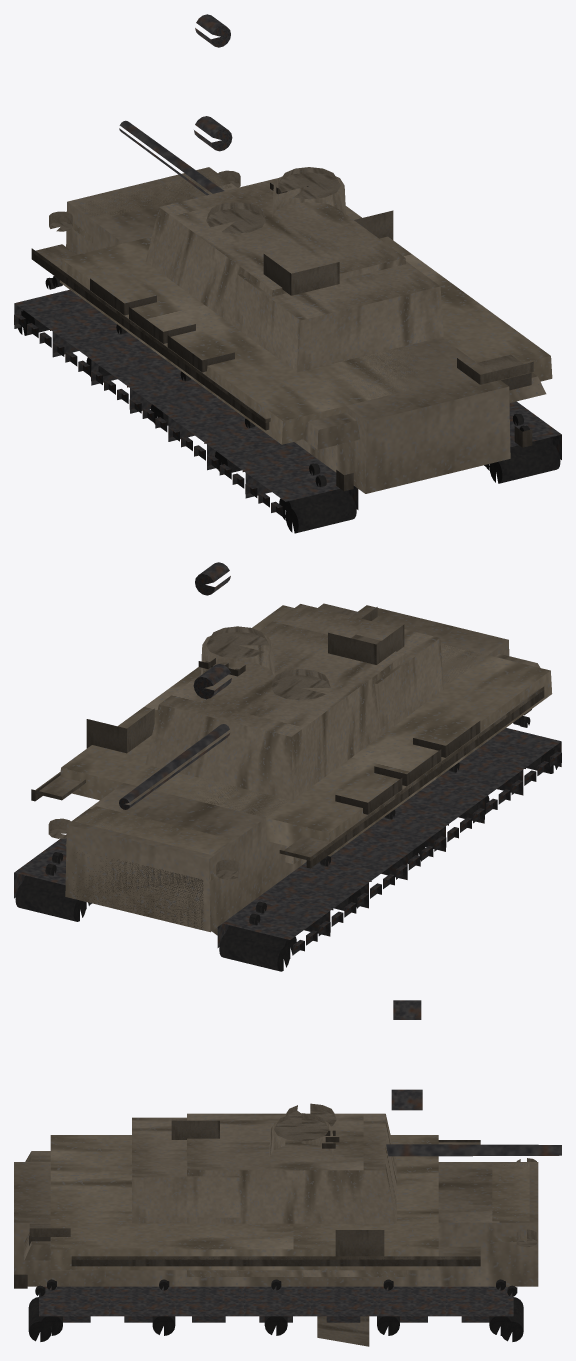
The model's file is ct-light.glb.
3 views of the same model, one above another, from view 1: azimuth 30°, elevation 25°; view 2: azimuth 150°, elevation 25°; view 3: azimuth 270°, elevation 25° (orthographic). The views are drawn at different scales.
Parts seen in each view (by area): view 1: Hull, Turret, TrackR0, TrackR1, Gun, TrackR4, TrackR5, TrackR2, TrackR6, TrackR3, IdlerR, IdlerL (+2 smaller); view 2: Hull, Turret, TrackR6, TrackR5, Gun, TrackR3, TrackR0, TrackR2, TrackR1, TrackR4, SprocketR, SprocketL (+3 smaller); view 3: Hull, Turret, Gun, TrackL4, TrackL2, TrackL1, TrackL5, TrackL0, TrackL6, TrackL3, IdlerL, SprocketL (+5 smaller).
Part boxes in pixels (x1,y1,x2,y2): Hull: [31, 167, 552, 493]; Turret: [145, 167, 443, 372]; TrackR0: [245, 456, 358, 516]; TrackR1: [207, 431, 313, 488]; Gun: [119, 14, 232, 195]; TrackR4: [91, 346, 180, 403]; TrackR5: [52, 318, 146, 375]; TrackR2: [168, 402, 262, 460]; TrackR6: [14, 289, 107, 347]; TrackR3: [129, 377, 223, 431]; IdlerR: [285, 475, 356, 533]; IdlerL: [489, 425, 560, 483]; Hull: [31, 603, 552, 932]; Turret: [145, 604, 443, 935]; TrackR6: [217, 894, 330, 954]; TrackR5: [262, 866, 368, 926]; Gun: [119, 562, 231, 809]; TrackR3: [352, 815, 446, 870]; TrackR0: [467, 728, 561, 785]; TrackR2: [394, 785, 484, 841]; TrackR1: [428, 756, 523, 813]; TrackR4: [301, 841, 407, 898]; SprocketR: [219, 913, 289, 971]; SprocketL: [15, 864, 86, 921]; Hull: [14, 1135, 538, 1288]; Turret: [132, 1103, 407, 1346]; Gun: [386, 1000, 561, 1156]; TrackL4: [308, 1286, 378, 1322]; TrackL2: [173, 1286, 243, 1322]; TrackL1: [106, 1286, 176, 1322]; TrackL5: [376, 1286, 445, 1322]; TrackL0: [39, 1286, 108, 1322]; TrackL6: [443, 1286, 513, 1322]; TrackL3: [241, 1286, 311, 1322]; IdlerL: [28, 1285, 51, 1341]; SprocketL: [502, 1285, 523, 1341].
Size of the model in its own units: 2.93 by 3.86 by 5.64.
3 materials, 3 textured.
